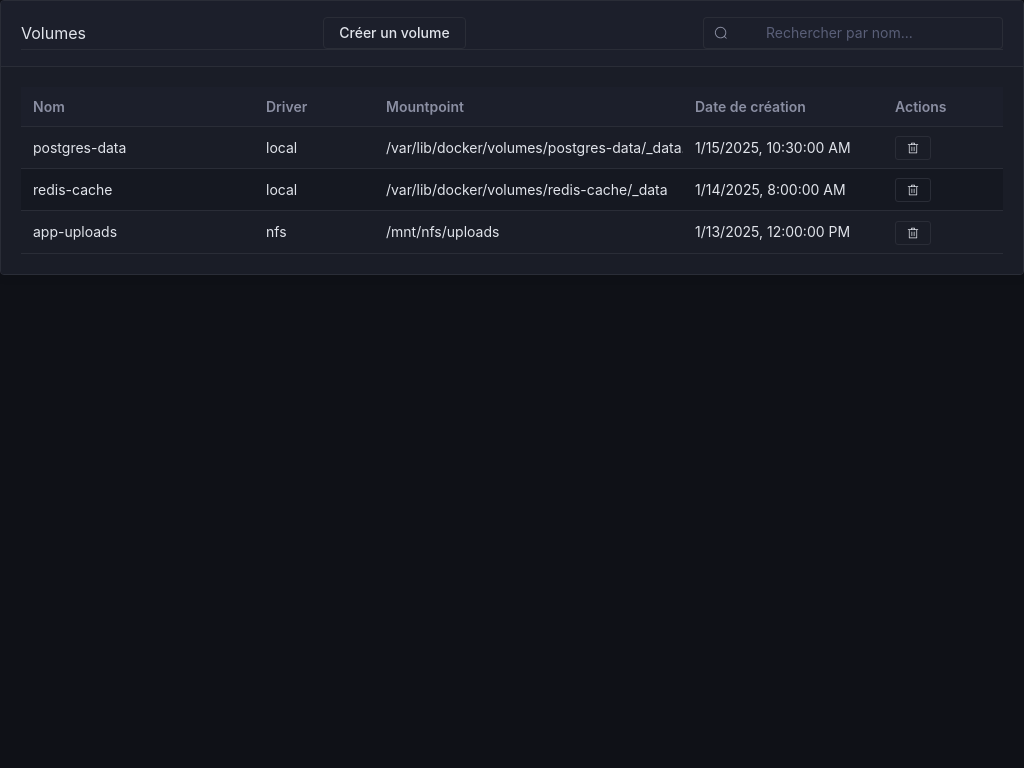
Volumes.vue › ouvre le dialog au clic sur "Créer un volume"
Click the button "Créer un volume".
click(394, 33)  # box [323, 17, 466, 49]
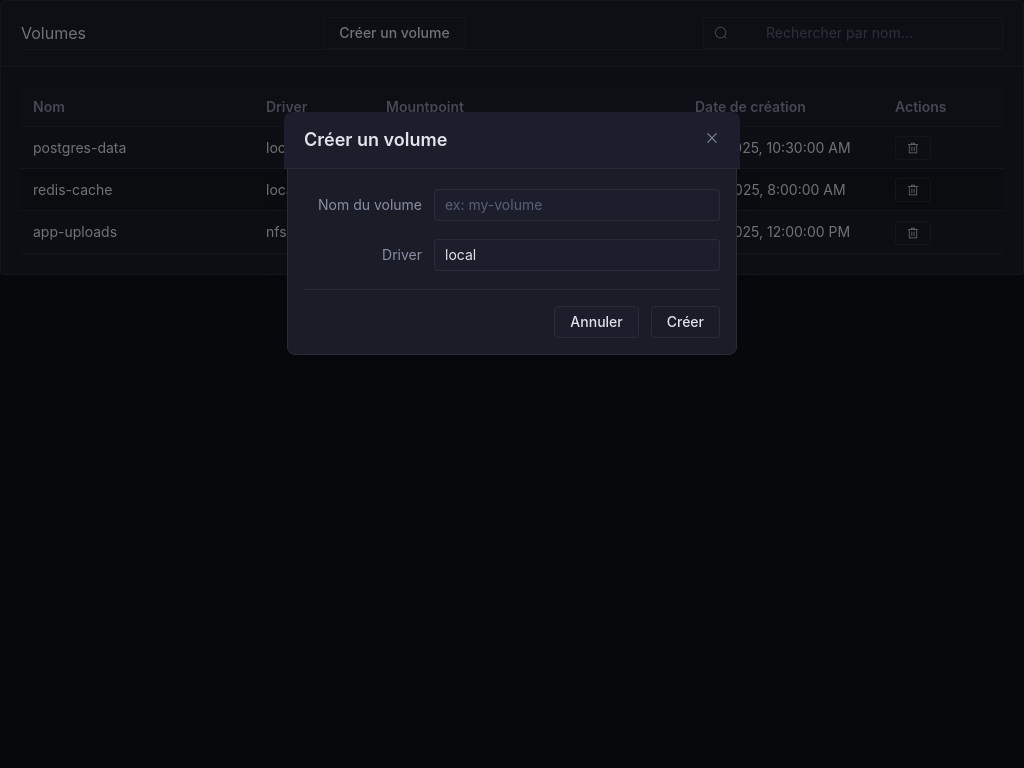
Expected: the text "Créer un volume" is shown, [339, 26, 450, 40]
Now the element showing "Créer un volume Nom du volume Driver Annuler Créer" is shown, box [287, 115, 737, 355]
